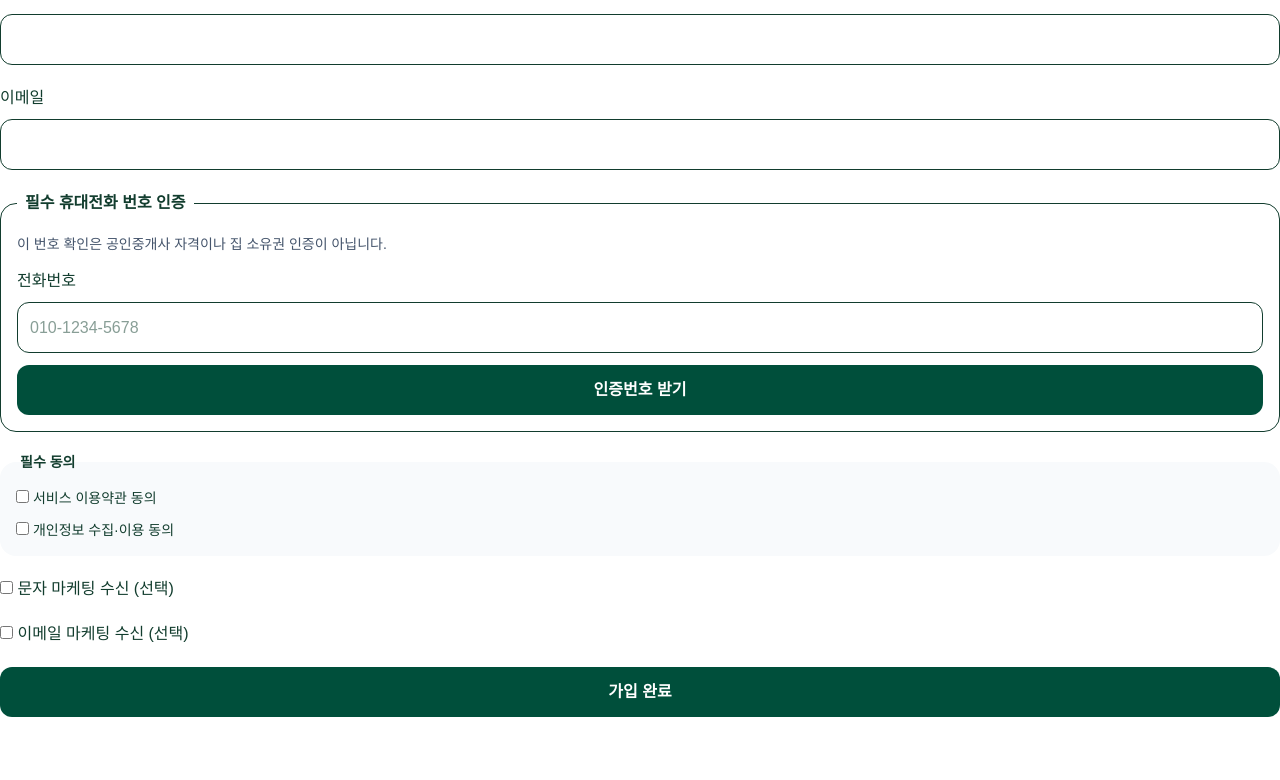
Test: VerificationForm › TEST-ZSD-AUTH-003 explains an expired verification code and lets the user request another
The image size is (1280, 780).
In the field labelled "전화번호": (640, 327) [17,302,1263,353], type "01012345678"
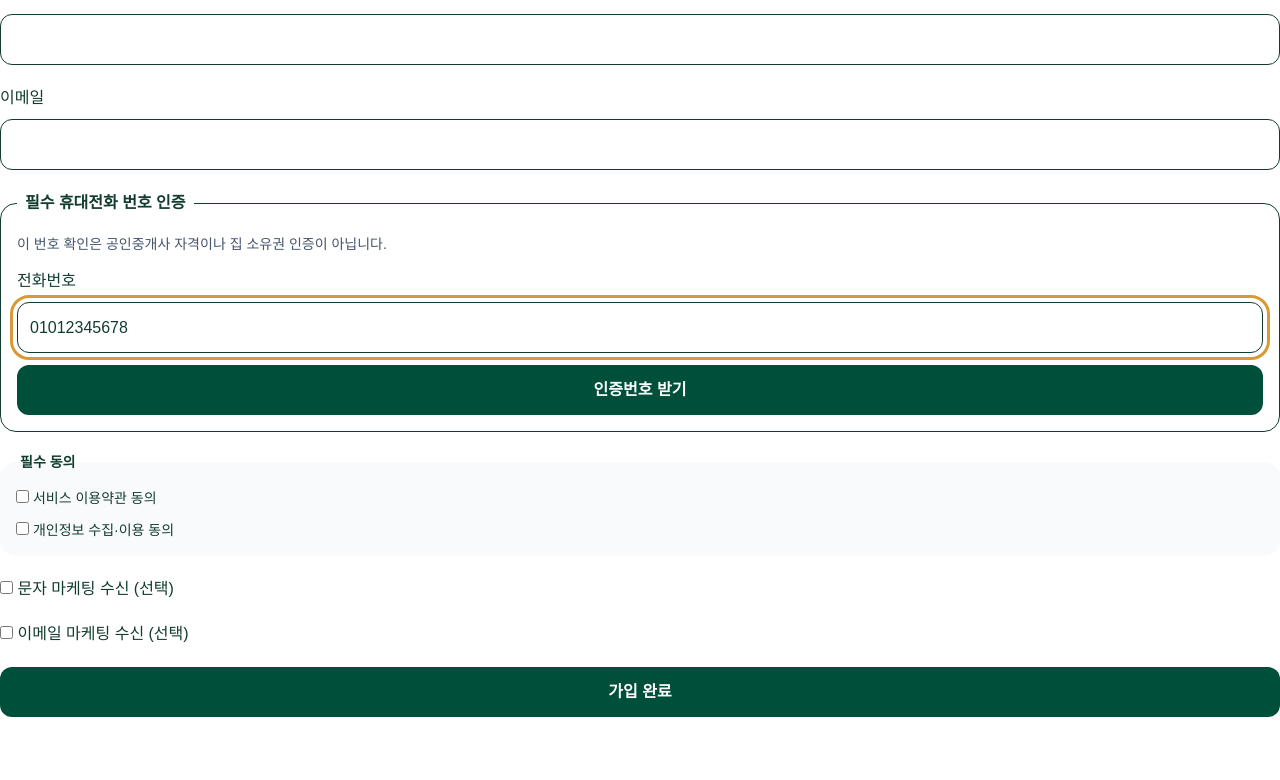
Click the button "인증번호 받기": (640, 390) [17,365,1263,415]
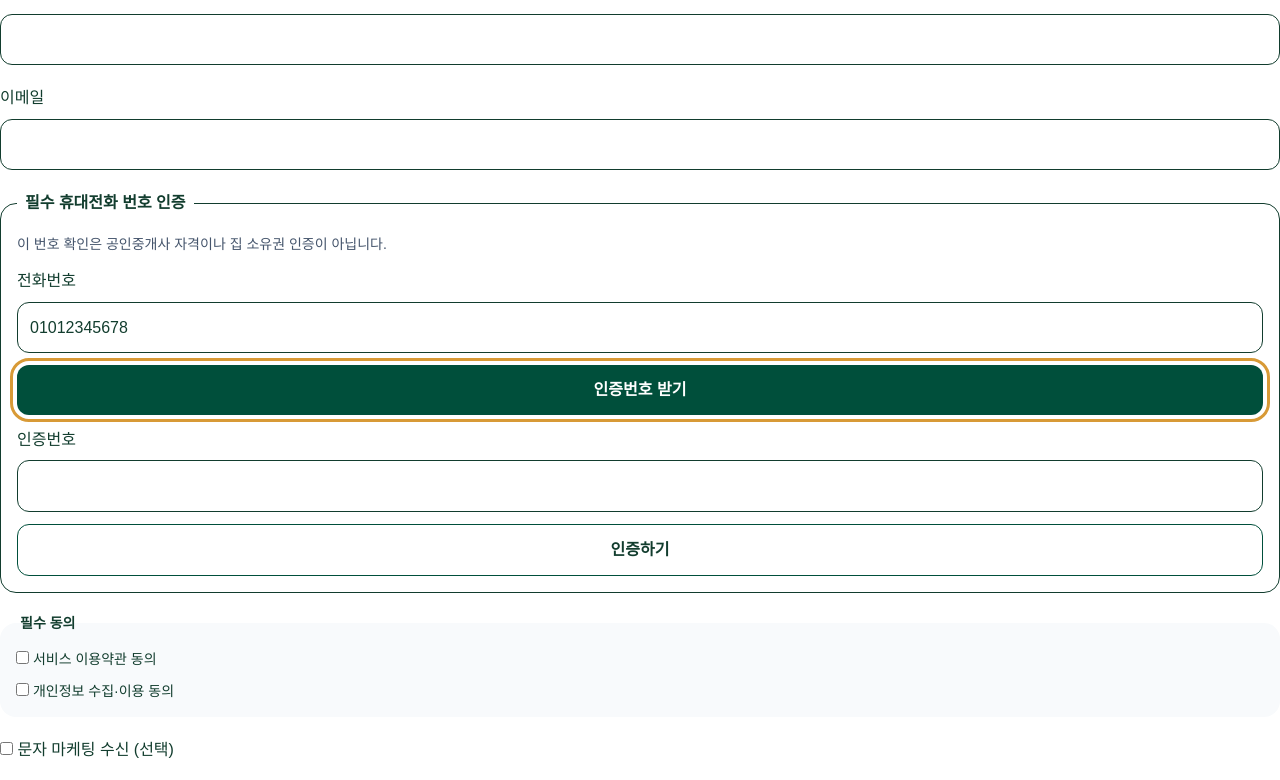
In the field labelled "인증번호": (640, 486) [17,460,1263,512], type "123456"
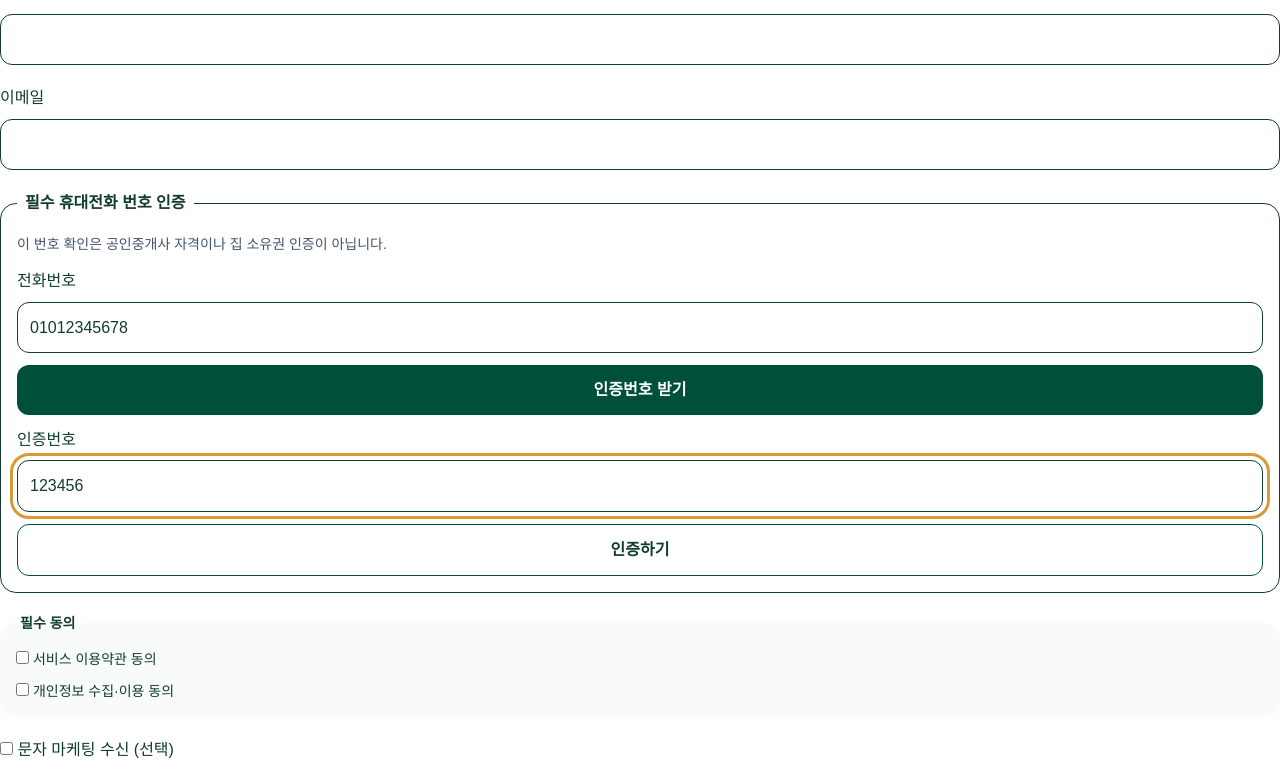
Click the button "인증하기": (640, 550) [17,524,1263,576]
(page scrolled)
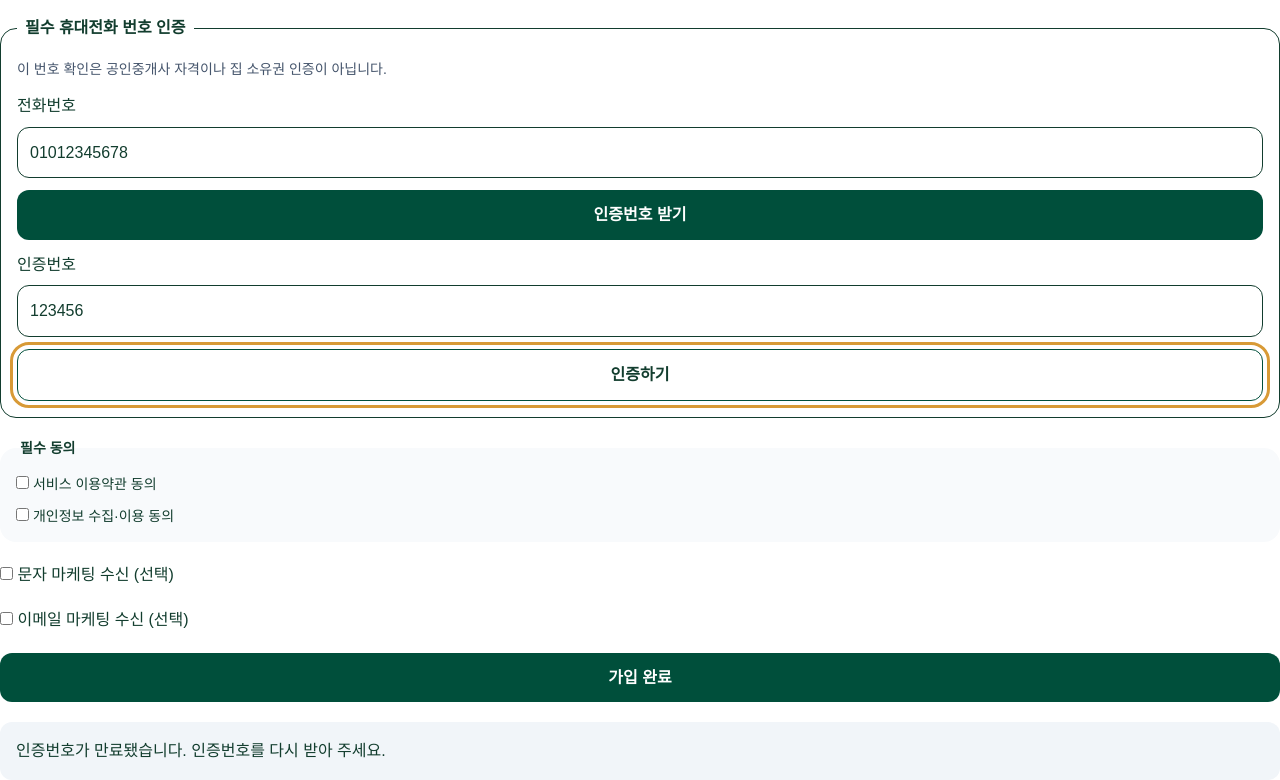
Expected: the text "인증번호가 만료됐습니다. 인증번호를 다시 받아 주세요." is shown, [0,722,1279,779]
